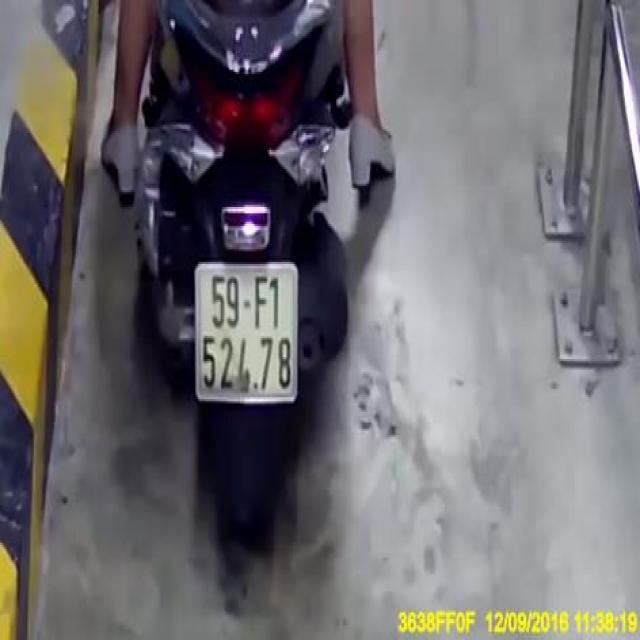motorcycle: (116, 0, 364, 550)
plate: (189, 256, 306, 407)
